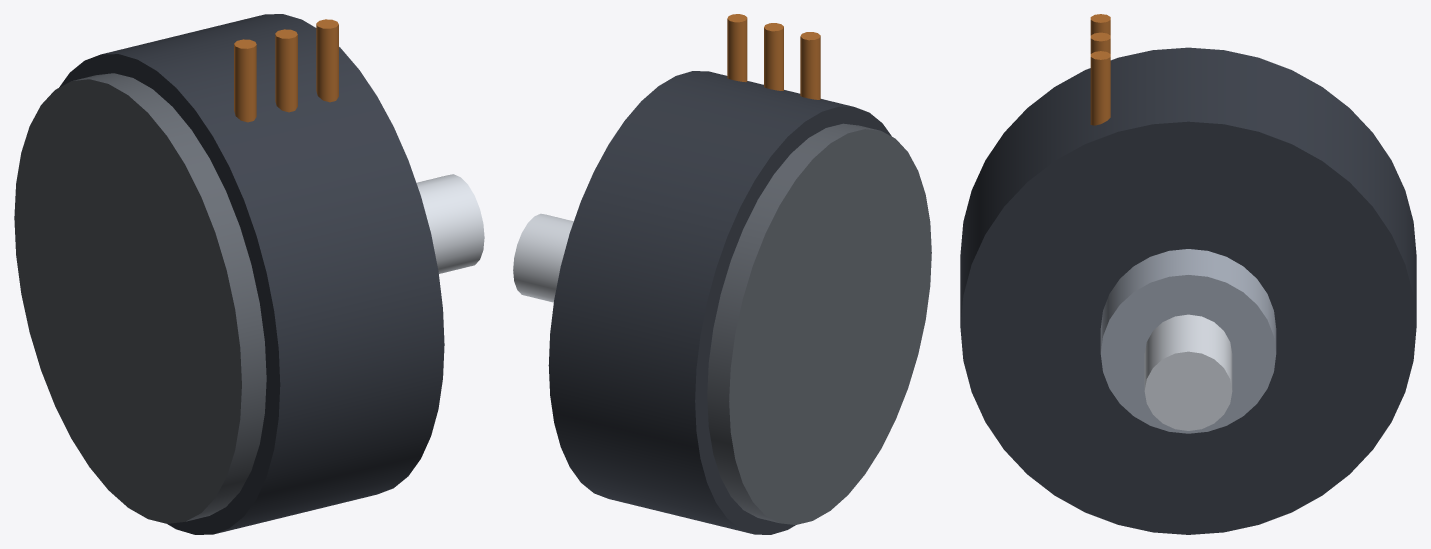
Rendered from kvi-mot-01.glb.
3 views of the same model, side by side, from view 1: azimuth 30°, elevation 25°; view 2: azimuth 150°, elevation 25°; view 3: azimuth 270°, elevation 25° (orthographic). The views are drawn at different scales.
Parts seen in each view (by area): view 1: Motor eléctrico sin escobillas 72V 1200W; view 2: Motor eléctrico sin escobillas 72V 1200W; view 3: Motor eléctrico sin escobillas 72V 1200W.
Boxes of the visible parts, x1,y1,x2,y2 form: Motor eléctrico sin escobillas 72V 1200W: (14, 14, 484, 534); Motor eléctrico sin escobillas 72V 1200W: (513, 14, 931, 534); Motor eléctrico sin escobillas 72V 1200W: (960, 14, 1416, 534).
Bounding box in the file's own units: 0.6983 × 1 × 0.8966.
